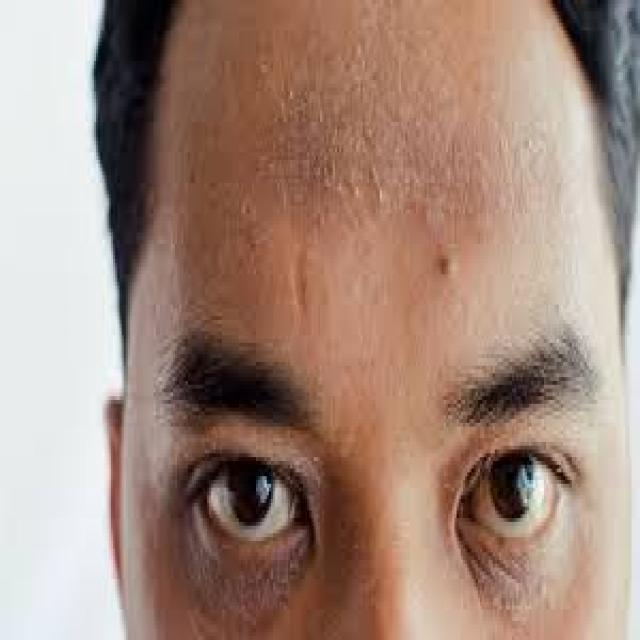Eczema: (228, 125, 536, 247)
